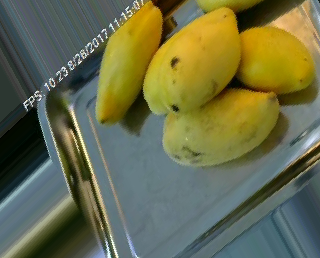Mango: (155, 83, 282, 169), (156, 4, 242, 115), (93, 2, 164, 128), (227, 23, 317, 98)
